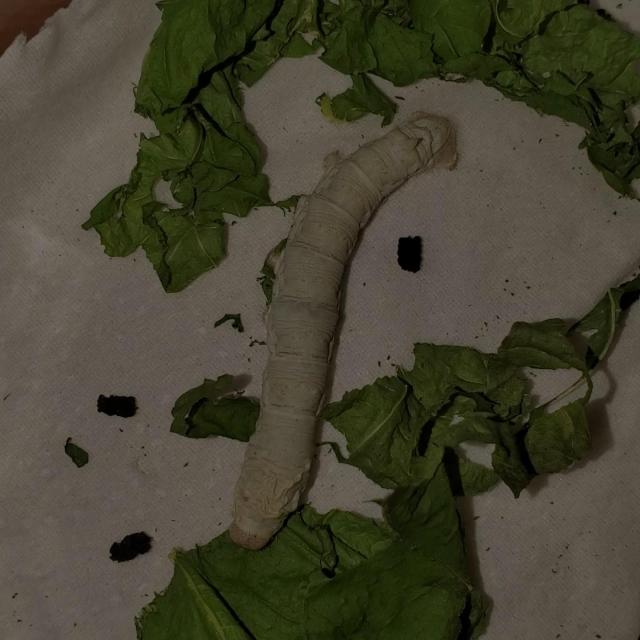Healthy: (193, 70, 555, 592)
